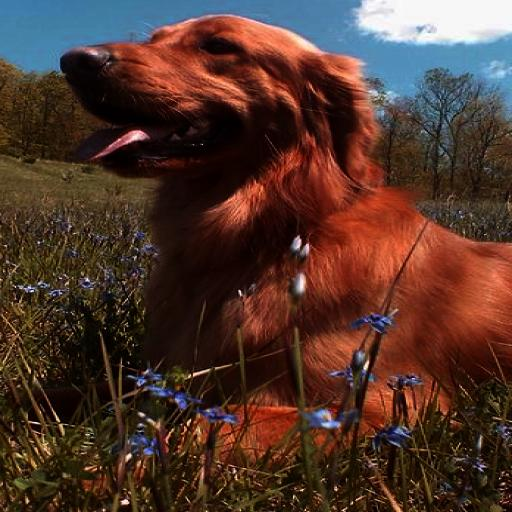dog_face: (64, 14, 382, 188)
